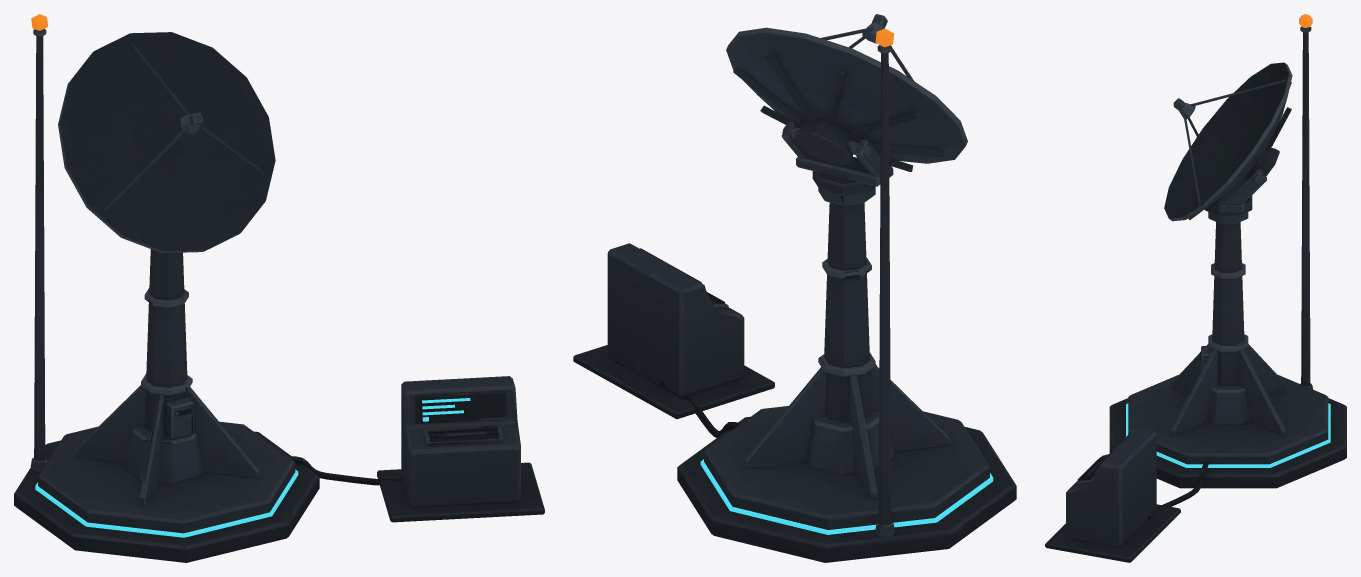
File: antenna.glb
The picture shows the model from 3 angles, left to right: view 1: azimuth 30°, elevation 25°; view 2: azimuth 150°, elevation 25°; view 3: azimuth 270°, elevation 25°; orthographic projection. The views are drawn at different scales.
Visible parts, largest first — view 1: base, dish, trim; view 2: base, dish, trim; view 3: base, dish, trim.
Boxes of the visible parts, bbox=[...] form: base: bbox=[14, 29, 544, 562]; dish: bbox=[58, 32, 275, 253]; trim: bbox=[35, 398, 470, 537]; base: bbox=[573, 45, 1016, 562]; dish: bbox=[726, 14, 967, 195]; trim: bbox=[700, 459, 993, 534]; base: bbox=[1045, 27, 1346, 562]; dish: bbox=[1164, 62, 1292, 221]; trim: bbox=[1126, 403, 1330, 467].
Size of the model in its own units: 5.72 by 6.01 by 4.19.
Materials: 3 (1 with a texture image).
